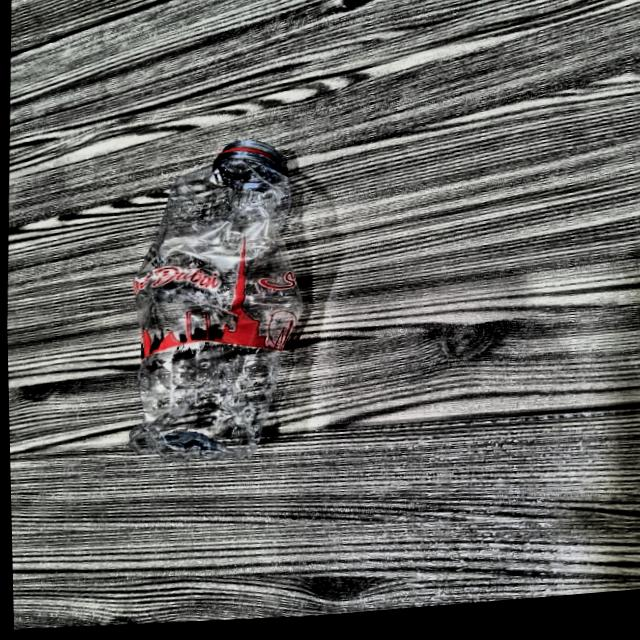Bottles: (108, 110, 330, 491)
